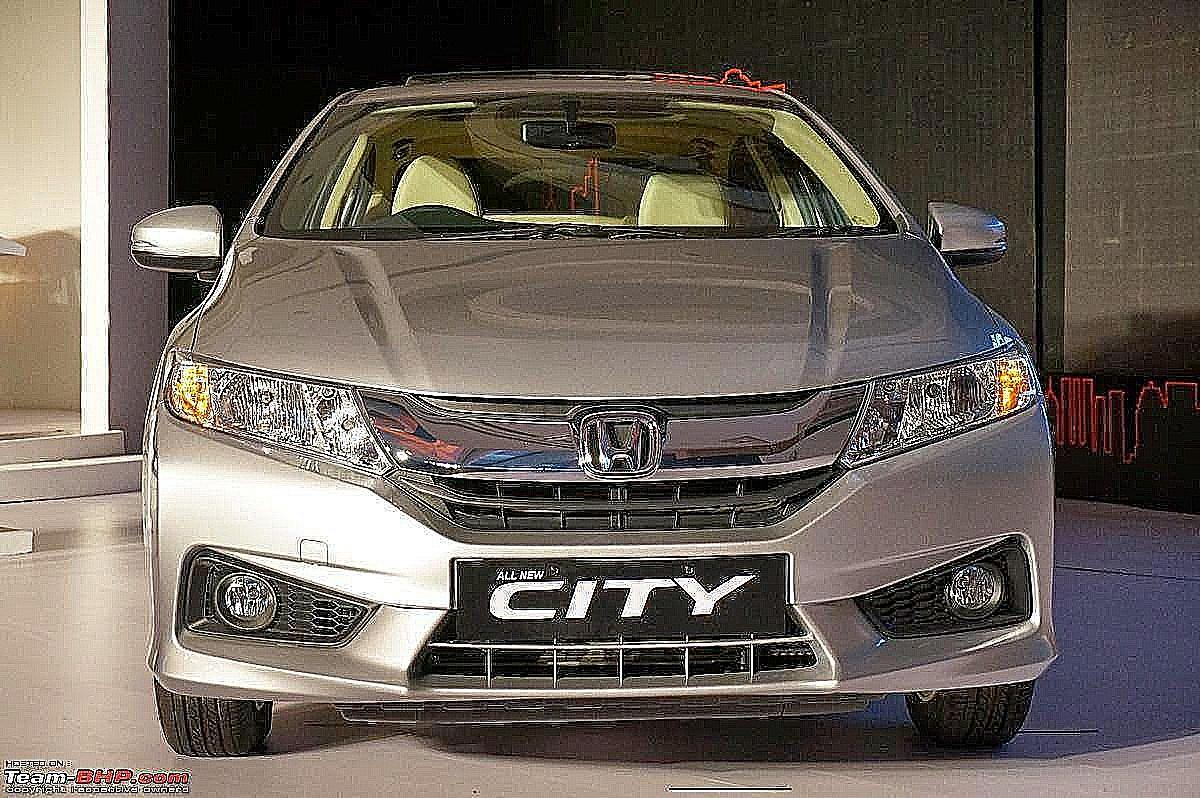Car hood: (173, 230, 1031, 410)
Front bumper: (128, 410, 1069, 728)
Headlight - -L-: (830, 325, 1053, 485)
Headlight - -R-: (138, 338, 406, 487)
Side mirror - -L-: (910, 175, 1017, 280)
Side mirror - -R-: (108, 188, 246, 287)
